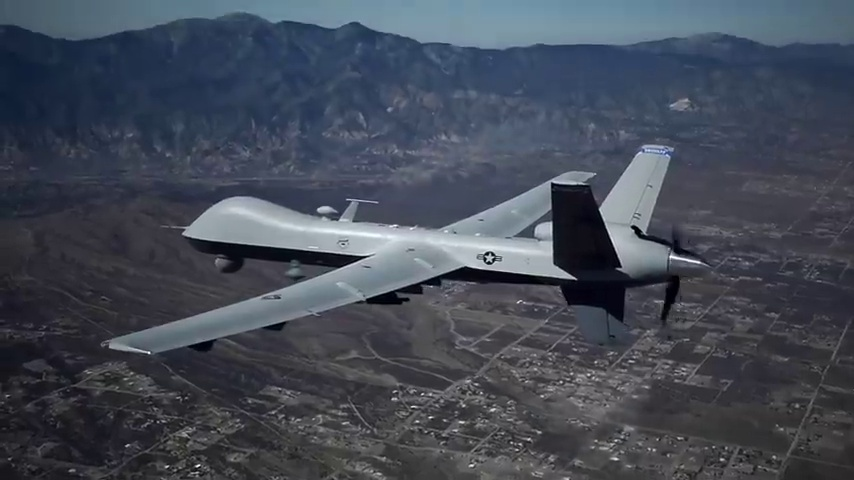military drone: (100, 143, 712, 355)
